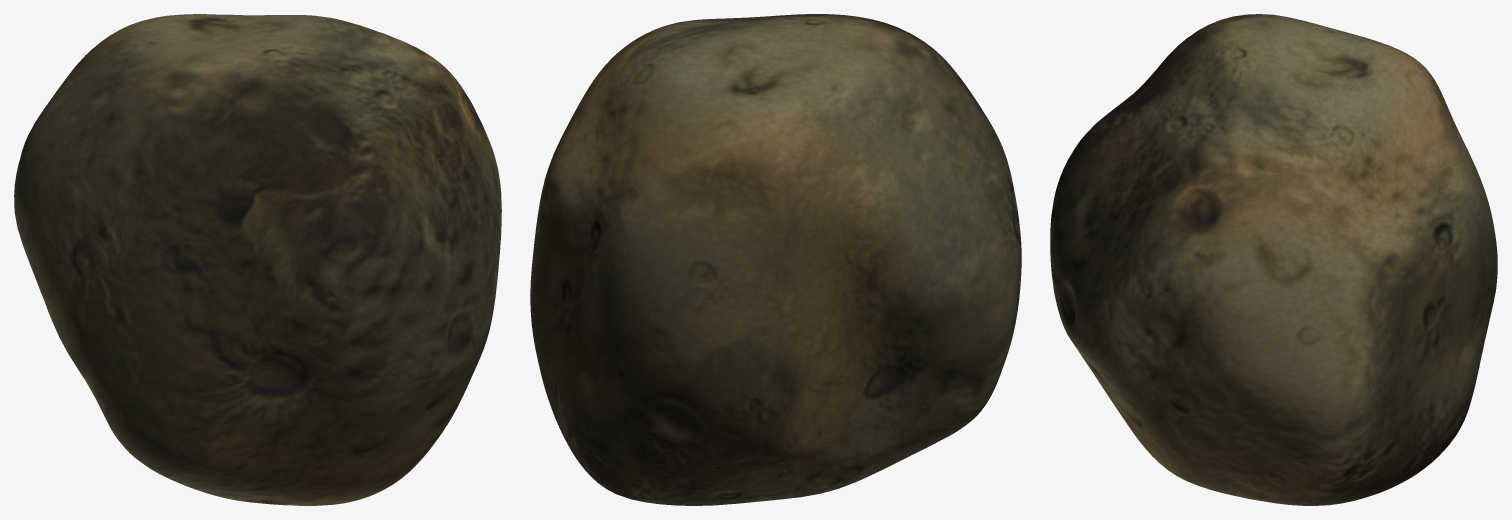
The model's file is asteroide.gltf.
3 renders of one model, left to right at view 1: azimuth 30°, elevation 25°; view 2: azimuth 150°, elevation 25°; view 3: azimuth 270°, elevation 25°, orthographic. The views are drawn at different scales.
Visible parts, largest first — view 1: 10464_Asteroid_v1; view 2: 10464_Asteroid_v1; view 3: 10464_Asteroid_v1.
Boxes of the visible parts, <box> form: 10464_Asteroid_v1: <box>14,14,501,505</box>; 10464_Asteroid_v1: <box>530,14,1021,505</box>; 10464_Asteroid_v1: <box>1050,14,1497,505</box>.
Bounding box in the file's own units: 3.03 × 3.07 × 3.06.
Materials: 1 (1 with a texture image).
